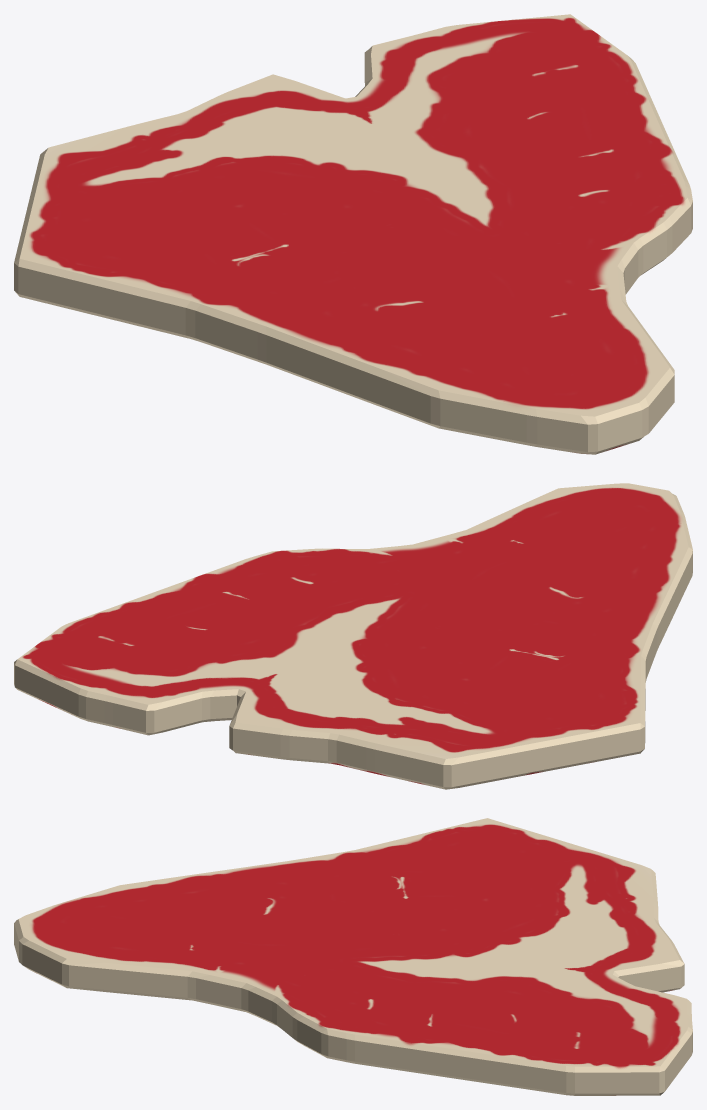
The model's file is Meat.obj.
3 views of the same model, one above another, from view 1: azimuth 30°, elevation 25°; view 2: azimuth 150°, elevation 25°; view 3: azimuth 270°, elevation 25° (orthographic). The views are drawn at different scales.
Visible parts, largest first — view 1: Plane; view 2: Plane; view 3: Plane.
Part boxes in pixels (x1,y1,x2,y2): Plane: (14, 14, 692, 454); Plane: (14, 483, 692, 789); Plane: (14, 818, 692, 1095).
Size of the model in its own units: 2.25 by 0.122 by 2.57.
1 material, 1 textured.
